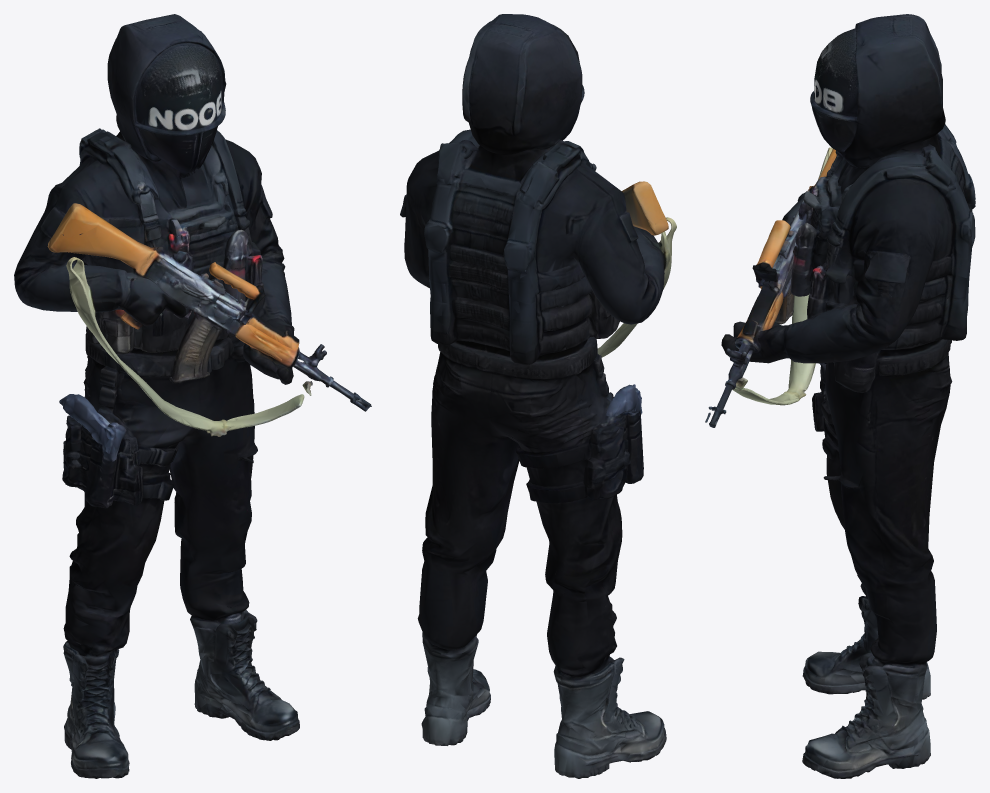
The model's file is nightguard.glb.
3 views of the same model, side by side, from view 1: azimuth 30°, elevation 25°; view 2: azimuth 150°, elevation 25°; view 3: azimuth 270°, elevation 25° (orthographic). The views are drawn at different scales.
Visible parts, largest first — view 1: model; view 2: model; view 3: model.
Part boxes in pixels (x1,y1,x2,y2): model: [14, 14, 371, 778]; model: [400, 14, 676, 778]; model: [705, 14, 975, 778].
Size of the model in its own units: 0.7265 by 1.9 by 0.6576.
1 material, 1 textured.
